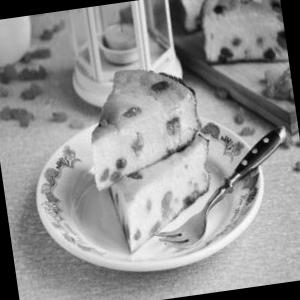casserole: (46, 44, 238, 259)
